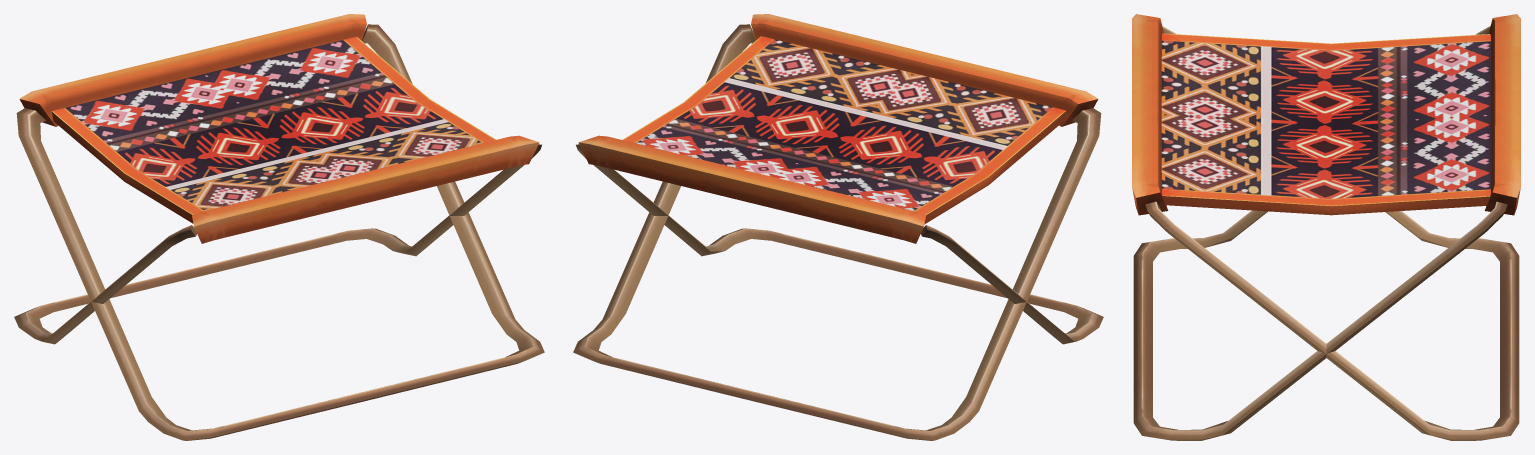
Rendered from my_military_01_chair_05.glb.
3 views of the same model, side by side, from view 1: azimuth 30°, elevation 25°; view 2: azimuth 150°, elevation 25°; view 3: azimuth 270°, elevation 25° (orthographic). The views are drawn at different scales.
Visible parts, largest first — view 1: my_military_01_chair_05; view 2: my_military_01_chair_05; view 3: my_military_01_chair_05.
Part boxes in pixels (x1=…): my_military_01_chair_05: x1=14, y1=14, x2=544, y2=440; my_military_01_chair_05: x1=573, y1=14, x2=1103, y2=440; my_military_01_chair_05: x1=1132, y1=14, x2=1520, y2=440.
Size of the model in its own units: 0.00474 by 0.00267 by 0.00389.
Materials: 1 (1 with a texture image).
